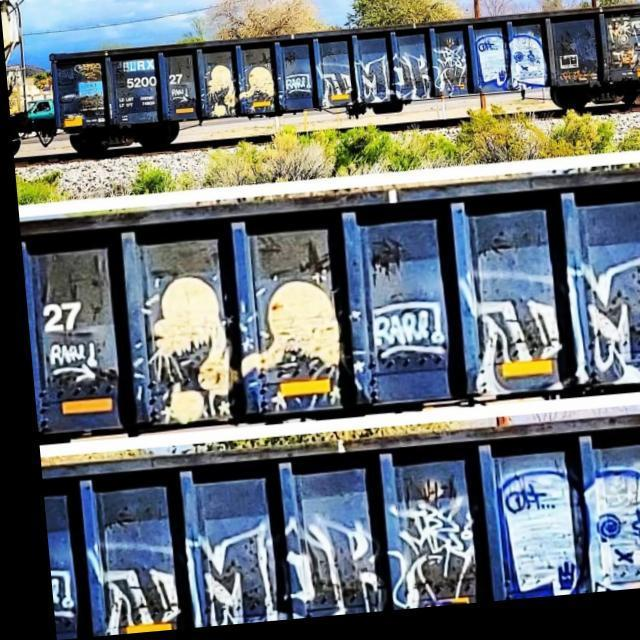-: (67, 470, 380, 638), (450, 261, 640, 418), (482, 466, 640, 608), (130, 238, 241, 431), (238, 226, 346, 424), (378, 488, 480, 616), (312, 46, 439, 118), (356, 298, 444, 376), (474, 31, 554, 108), (115, 56, 183, 95), (233, 63, 275, 120), (29, 296, 83, 340), (436, 46, 467, 100), (206, 68, 233, 121), (282, 74, 311, 106)
